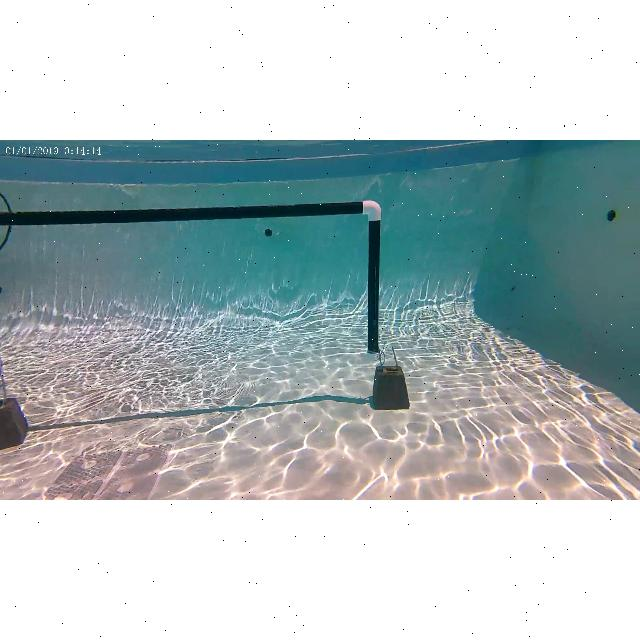prequal gate: (0, 200, 382, 378)
prequal gate leg r: (354, 192, 414, 410)
